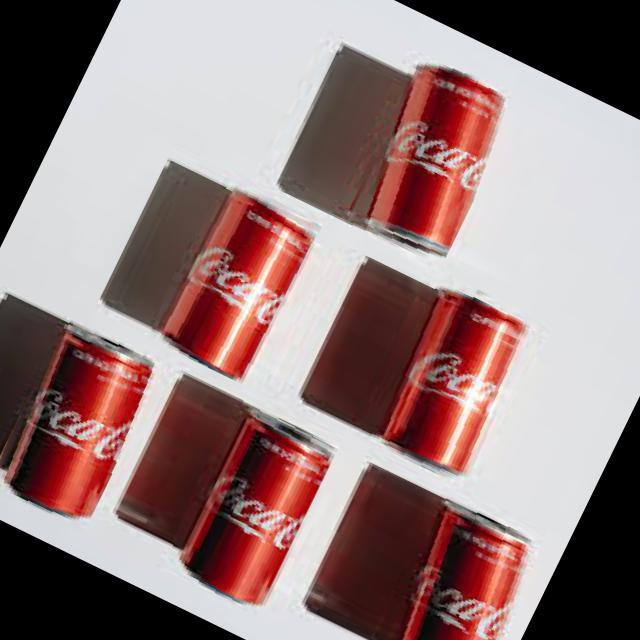Cans: (152, 394, 358, 625), (326, 42, 524, 272), (146, 172, 340, 393), (351, 276, 542, 490), (0, 308, 166, 536), (347, 483, 552, 640)
